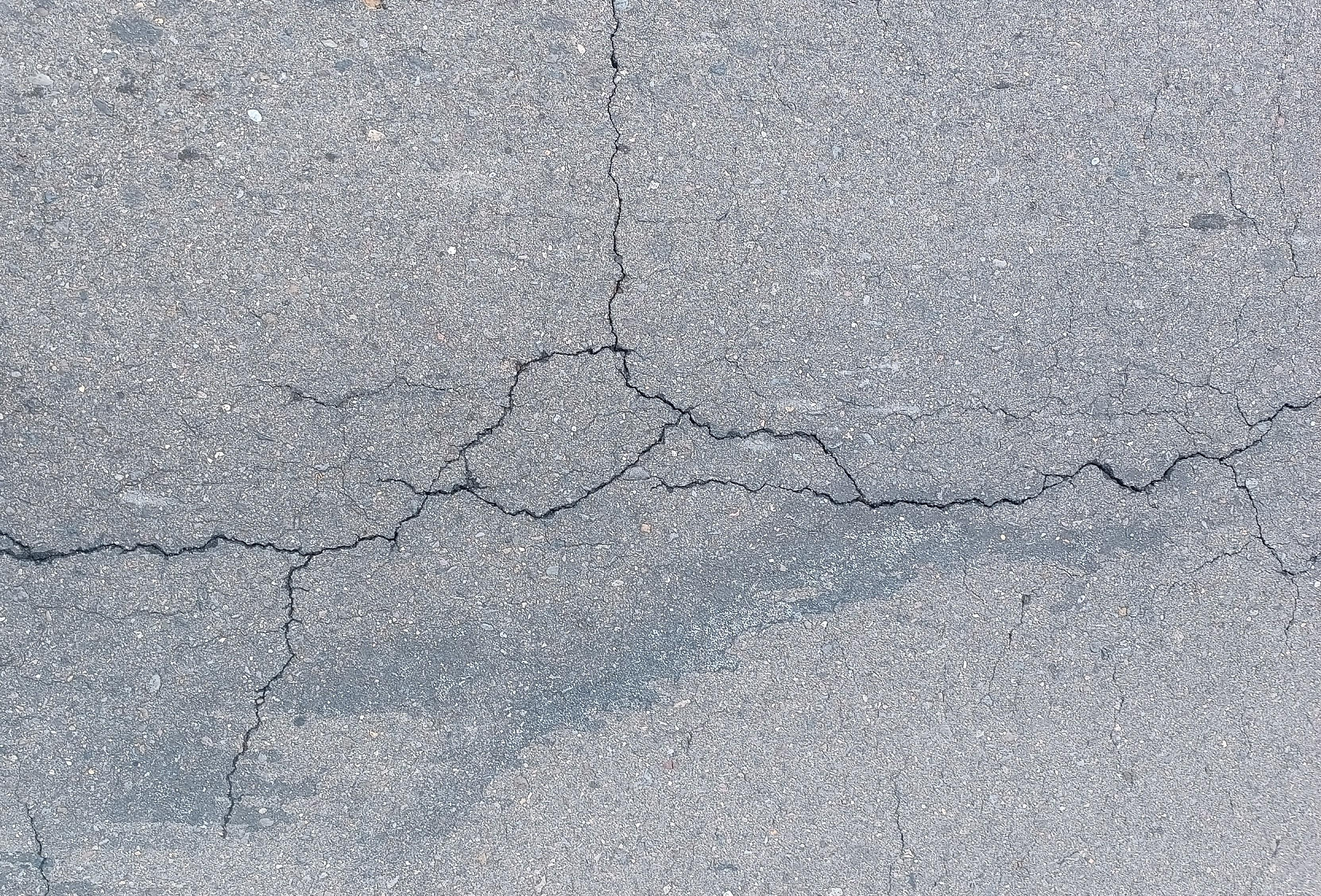GRIETA: (222, 558, 313, 839), (0, 531, 323, 564), (607, 0, 627, 320), (24, 803, 51, 896), (908, 494, 1038, 511), (887, 798, 905, 896)
PIEL DE COCODRILO: (247, 320, 915, 574), (1025, 82, 1321, 640)
